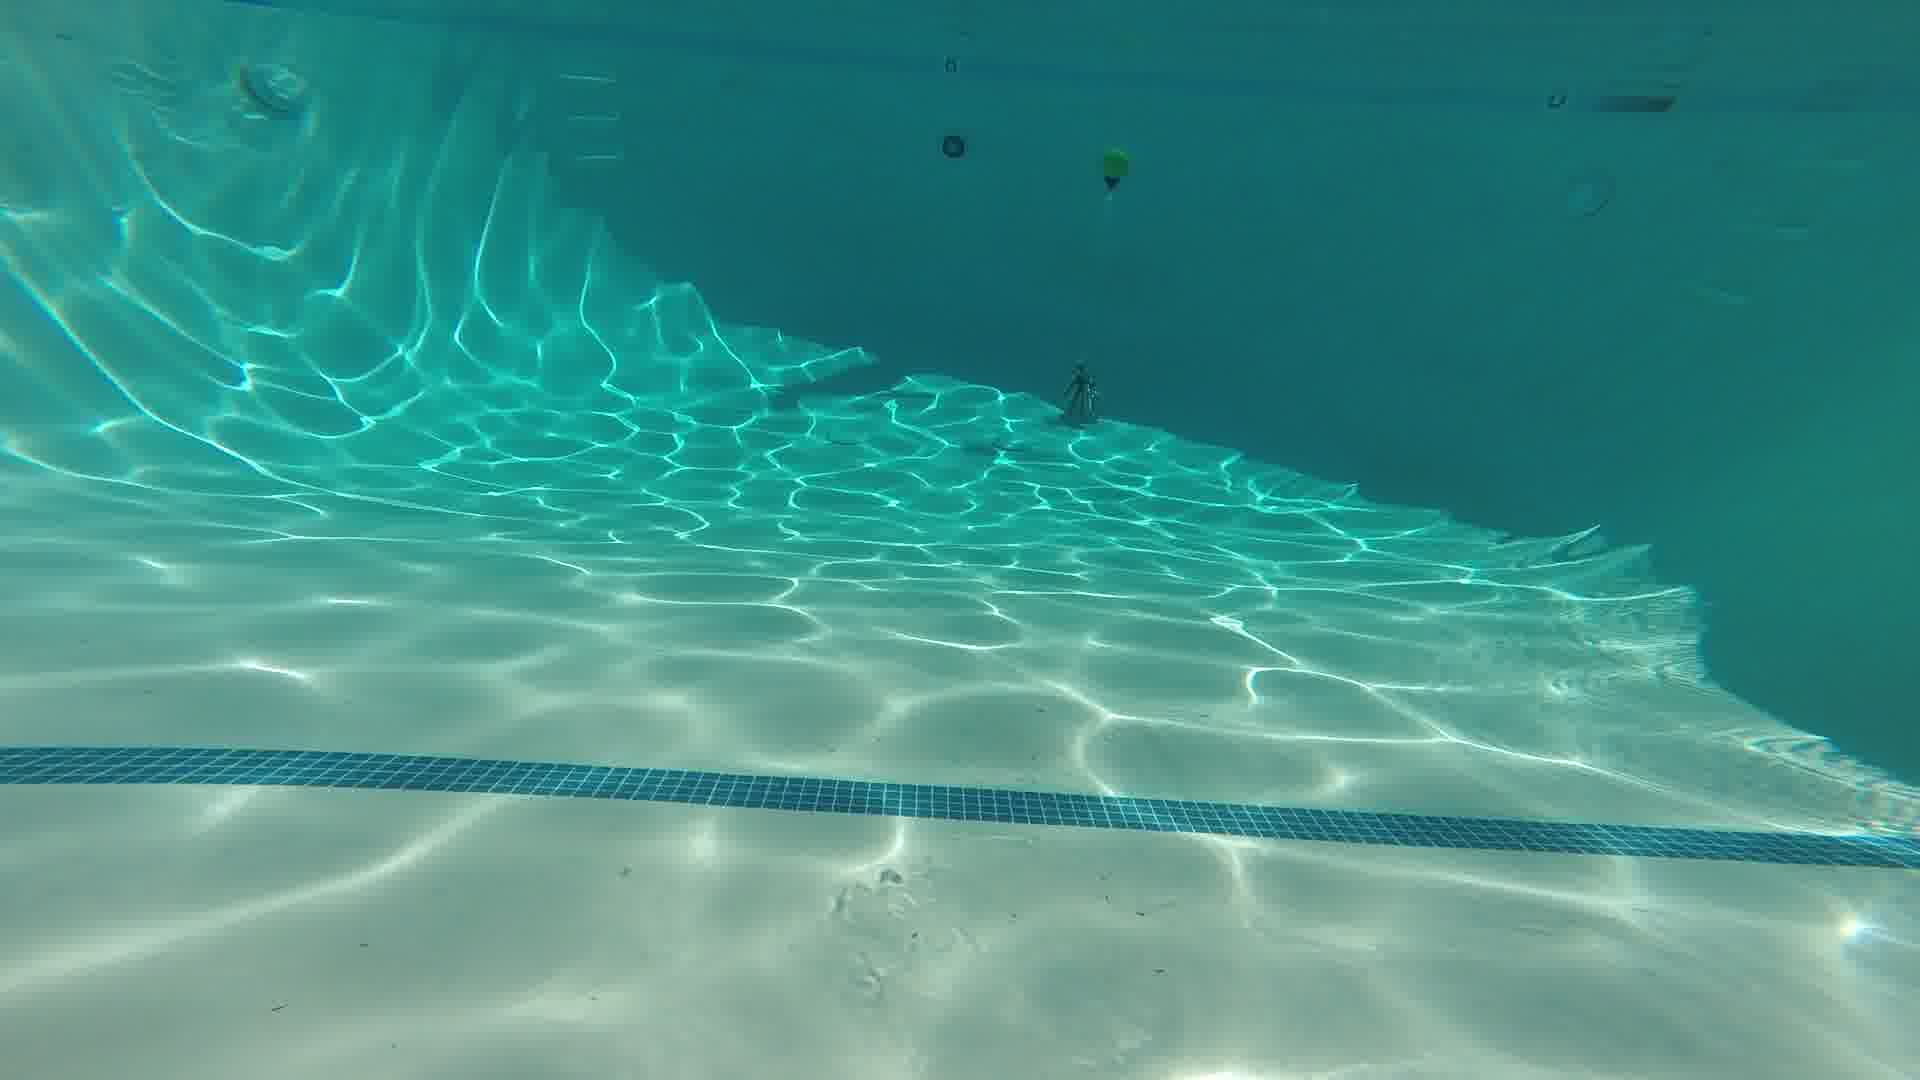yellow buoy: (1095, 146, 1134, 195)
